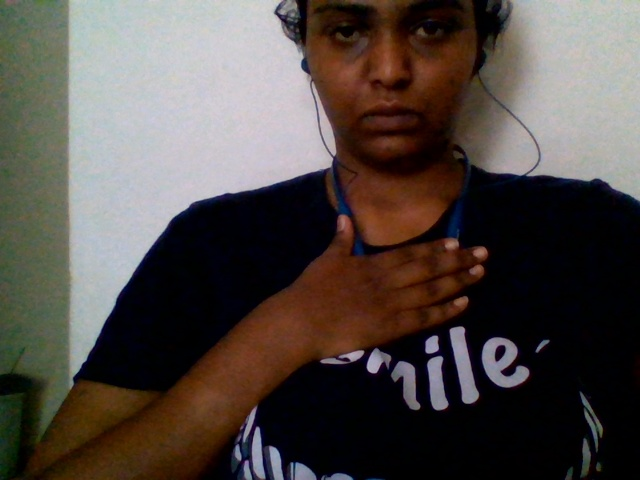Please: (245, 180, 534, 390)
